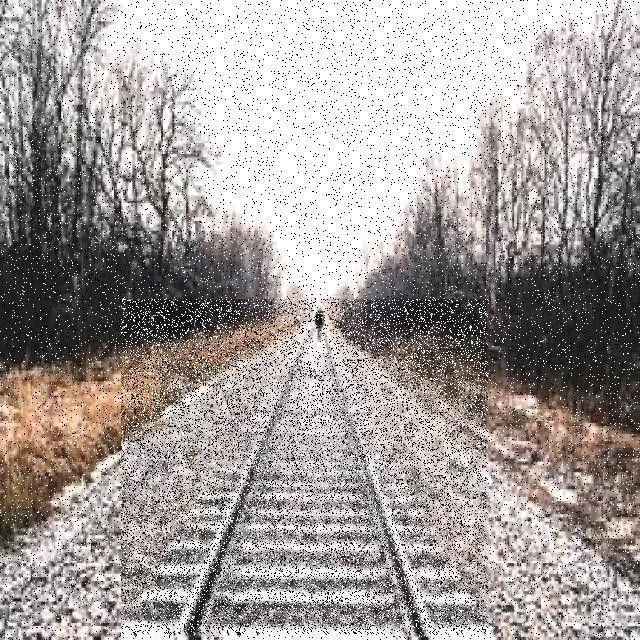rail: (122, 300, 488, 634)
